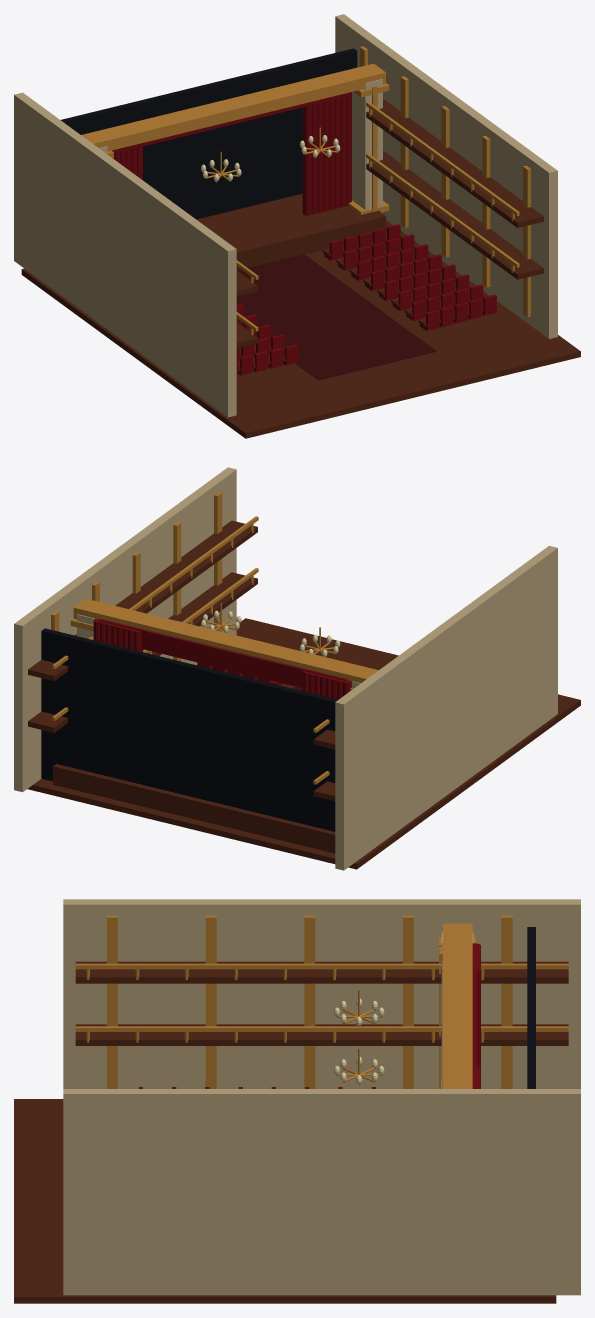
File: hall.obj
3 renders of one model, top to bottom at view 1: azimuth 30°, elevation 25°; view 2: azimuth 150°, elevation 25°; view 3: azimuth 270°, elevation 25°, orthographic. The views are drawn at different scales.
Parts seen in each view (by area): view 1: Side_wall, Auditorium_floor, Side_wall.001, Stage_rear, Central_aisle, Stage, Stage_arch_lintel, Balcony_floor.002, Balcony_floor.003, Proscenium_column.001, Velvet_curtain_fold.008, Balcony_rail.002 (+14 smaller); view 2: Side_wall, Stage_rear, Side_wall.001, Auditorium_floor, Stage, Stage_arch_lintel, Curtain_valance, Balcony_floor.003, Balcony_floor.002, Balcony_rail.003, Pilaster.005, Pilaster.006 (+1 smaller); view 3: Side_wall.001, Side_wall, Auditorium_floor, Balcony_floor.001, Balcony_floor, Stage_arch_lintel, Balcony_rail.001, Balcony_rail, Pilaster.004, Pilaster.001, Pilaster.002, Pilaster (+3 smaller).
Part boxes in pixels (bbox=[...]): Side_wall: bbox=[14, 92, 236, 417]; Auditorium_floor: bbox=[21, 220, 580, 438]; Side_wall.001: bbox=[335, 14, 557, 338]; Stage_rear: bbox=[61, 48, 357, 219]; Central_aisle: bbox=[236, 254, 436, 380]; Stage: bbox=[196, 193, 386, 270]; Stage_arch_lintel: bbox=[81, 63, 385, 151]; Balcony_floor.002: bbox=[366, 150, 543, 279]; Balcony_floor.003: bbox=[366, 99, 543, 227]; Proscenium_column.001: bbox=[352, 79, 382, 213]; Velvet_curtain_fold.008: bbox=[302, 105, 311, 215]; Balcony_rail.002: bbox=[366, 153, 519, 267]; Side_wall: bbox=[335, 545, 557, 870]; Stage_rear: bbox=[41, 628, 337, 831]; Side_wall.001: bbox=[14, 467, 236, 792]; Auditorium_floor: bbox=[27, 618, 580, 869]; Stage: bbox=[53, 764, 335, 853]; Stage_arch_lintel: bbox=[73, 599, 378, 686]; Curtain_valance: bbox=[98, 619, 347, 687]; Balcony_floor.003: bbox=[28, 520, 257, 681]; Balcony_floor.002: bbox=[28, 572, 257, 732]; Balcony_rail.003: bbox=[52, 516, 258, 669]; Pilaster.005: bbox=[214, 492, 222, 631]; Pilaster.006: bbox=[173, 522, 181, 661]; Side_wall.001: bbox=[63, 1089, 580, 1295]; Side_wall: bbox=[63, 899, 580, 1088]; Auditorium_floor: bbox=[14, 1099, 556, 1303]; Balcony_floor.001: bbox=[75, 961, 568, 983]; Balcony_floor: bbox=[75, 1024, 568, 1045]; Stage_arch_lintel: bbox=[443, 923, 472, 1088]; Balcony_rail.001: bbox=[75, 963, 568, 969]; Balcony_rail: bbox=[75, 1026, 568, 1031]; Pilaster.004: bbox=[501, 915, 512, 1088]; Pilaster.001: bbox=[205, 915, 216, 1088]; Pilaster.002: bbox=[304, 915, 315, 1088]; Pilaster: bbox=[107, 915, 117, 1088].
Size of the model in its own units: 19 by 9.31 by 23.
